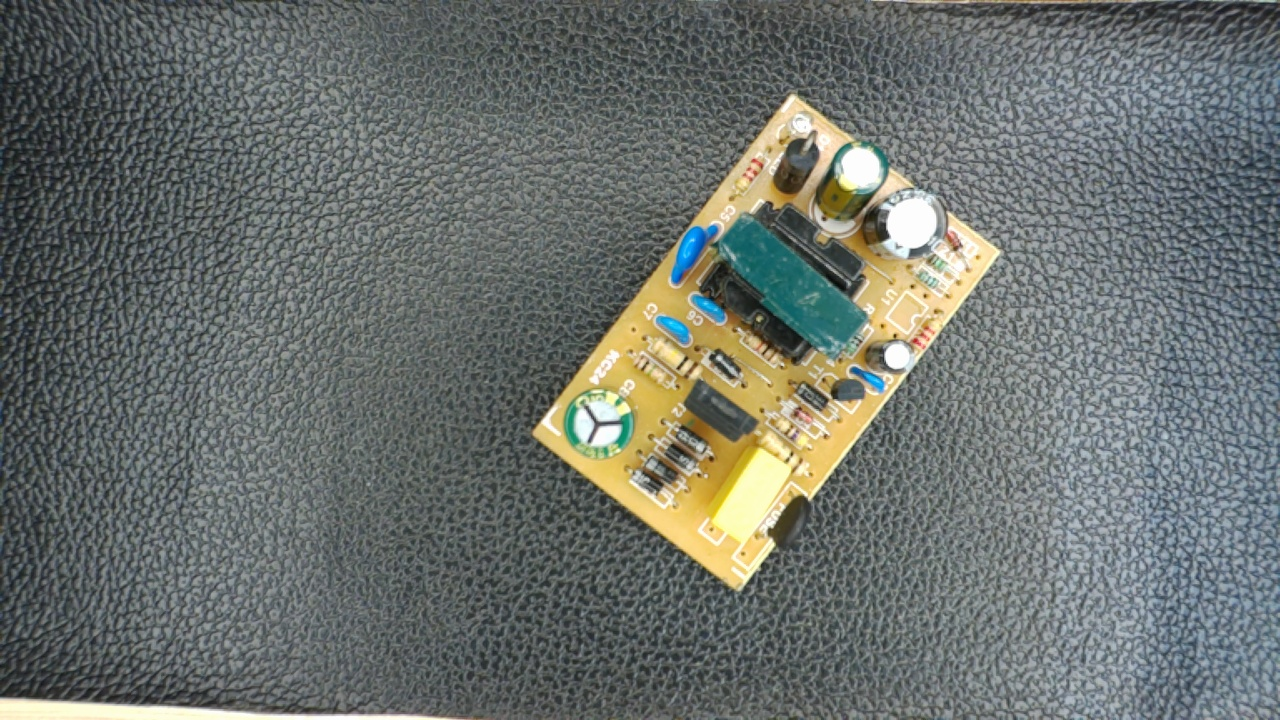fuse: (756, 485, 818, 554)
hv_capacitor: (557, 389, 642, 464)
mov: (666, 218, 726, 288)
